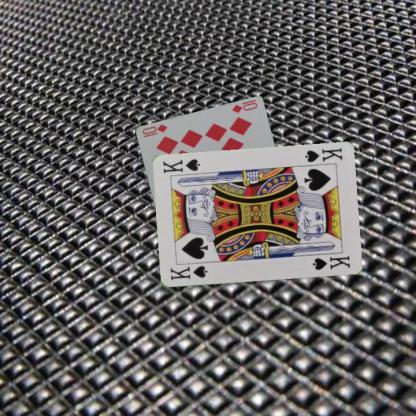10d: (230, 97, 258, 114)
Ks: (167, 263, 209, 281), (302, 146, 343, 164)
